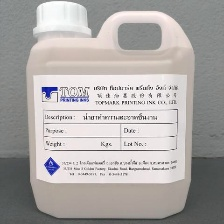cleaning_solution: (22, 0, 197, 223)
